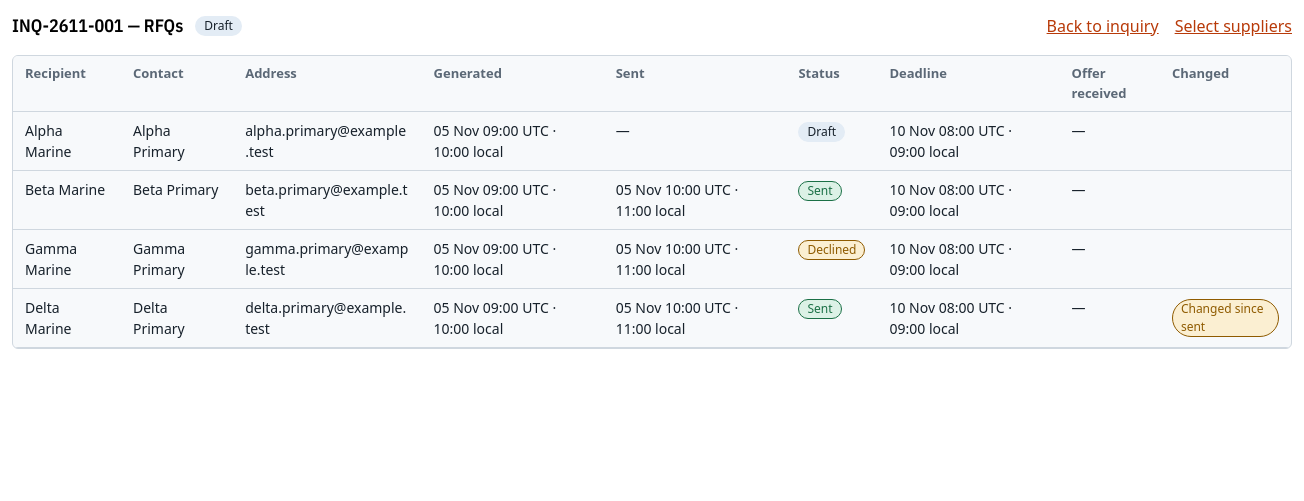
Test: RfqLog › [B3-R13] a buyer sees the right actions for Alpha Marine
Click the cell "Alpha Marine" at (67, 141), box [13,112,121,170]
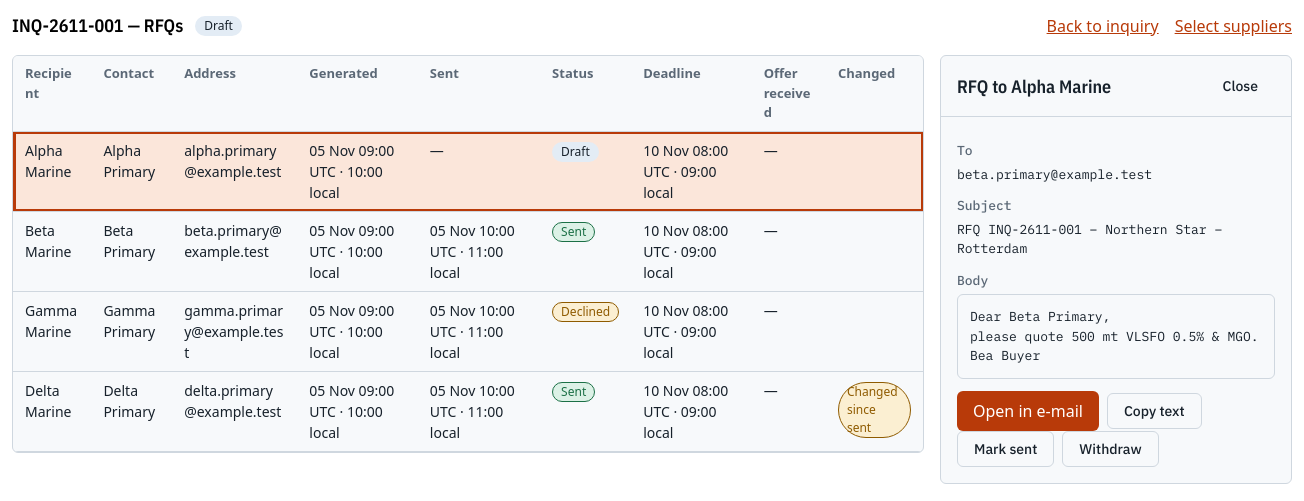
Expected: the link "Open in e-mail" is shown, [957,390,1099,430]
